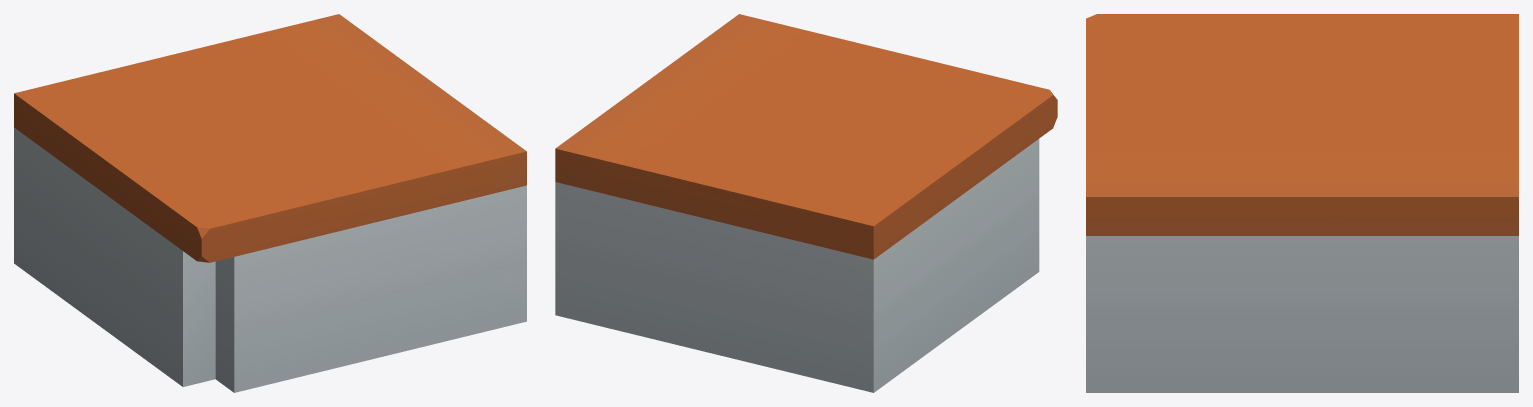
The model's file is kkr.kitchencounter_innercorner.glb.
3 renders of one model, left to right at view 1: azimuth 30°, elevation 25°; view 2: azimuth 150°, elevation 25°; view 3: azimuth 270°, elevation 25°, orthographic. The views are drawn at different scales.
Visible parts, largest first — view 1: kitchencounter_innercorner; view 2: kitchencounter_innercorner; view 3: kitchencounter_innercorner.
Boxes of the visible parts, <box> form: kitchencounter_innercorner: <box>14,14,526,392</box>; kitchencounter_innercorner: <box>555,14,1057,392</box>; kitchencounter_innercorner: <box>1086,14,1518,392</box>.
Bounding box in the file's own units: 1.49 × 0.7451 × 1.49.
1 material, 1 textured.
